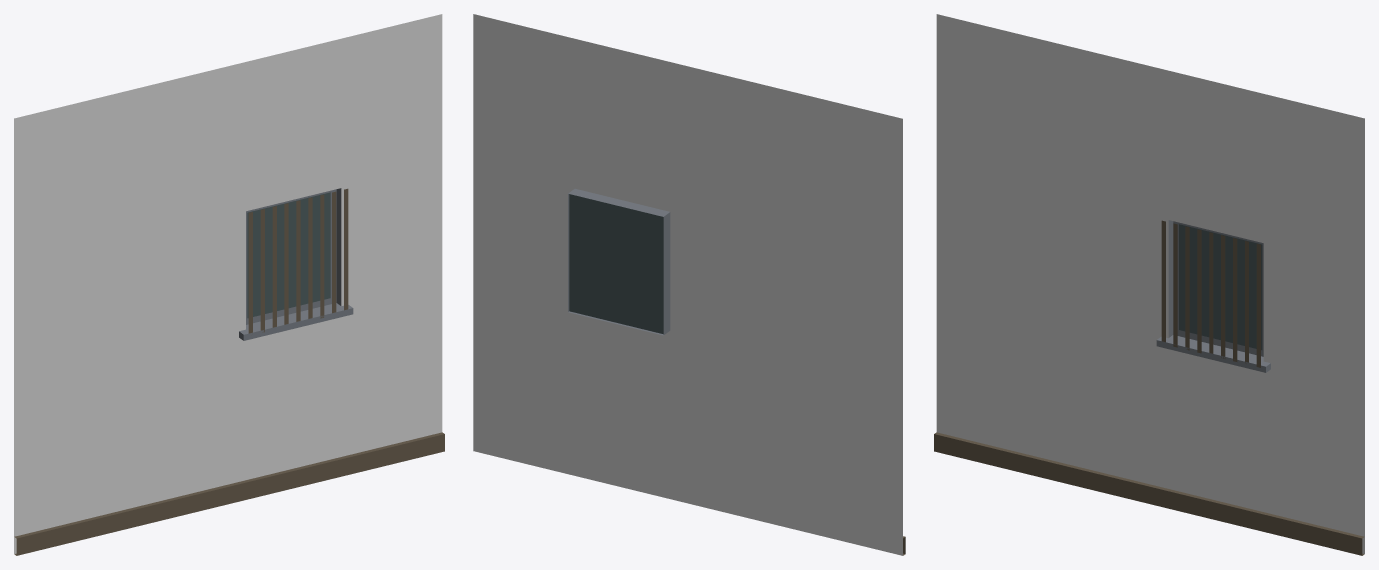
Rendered from top-w2.fbx.
3 renders of one model, left to right at view 1: azimuth 30°, elevation 25°; view 2: azimuth 150°, elevation 25°; view 3: azimuth 330°, elevation 25°, orthographic.
Parts seen in each view (by area): view 1: a2000/0/top-w2; view 2: a2000/0/top-w2; view 3: a2000/0/top-w2.
Part boxes in pixels (left/top/right/bottom): a2000/0/top-w2: left=14, top=14, right=444, bottom=555; a2000/0/top-w2: left=473, top=14, right=905, bottom=555; a2000/0/top-w2: left=934, top=14, right=1364, bottom=555.
Size of the model in its own units: 3.6 by 3.5 by 0.17.
